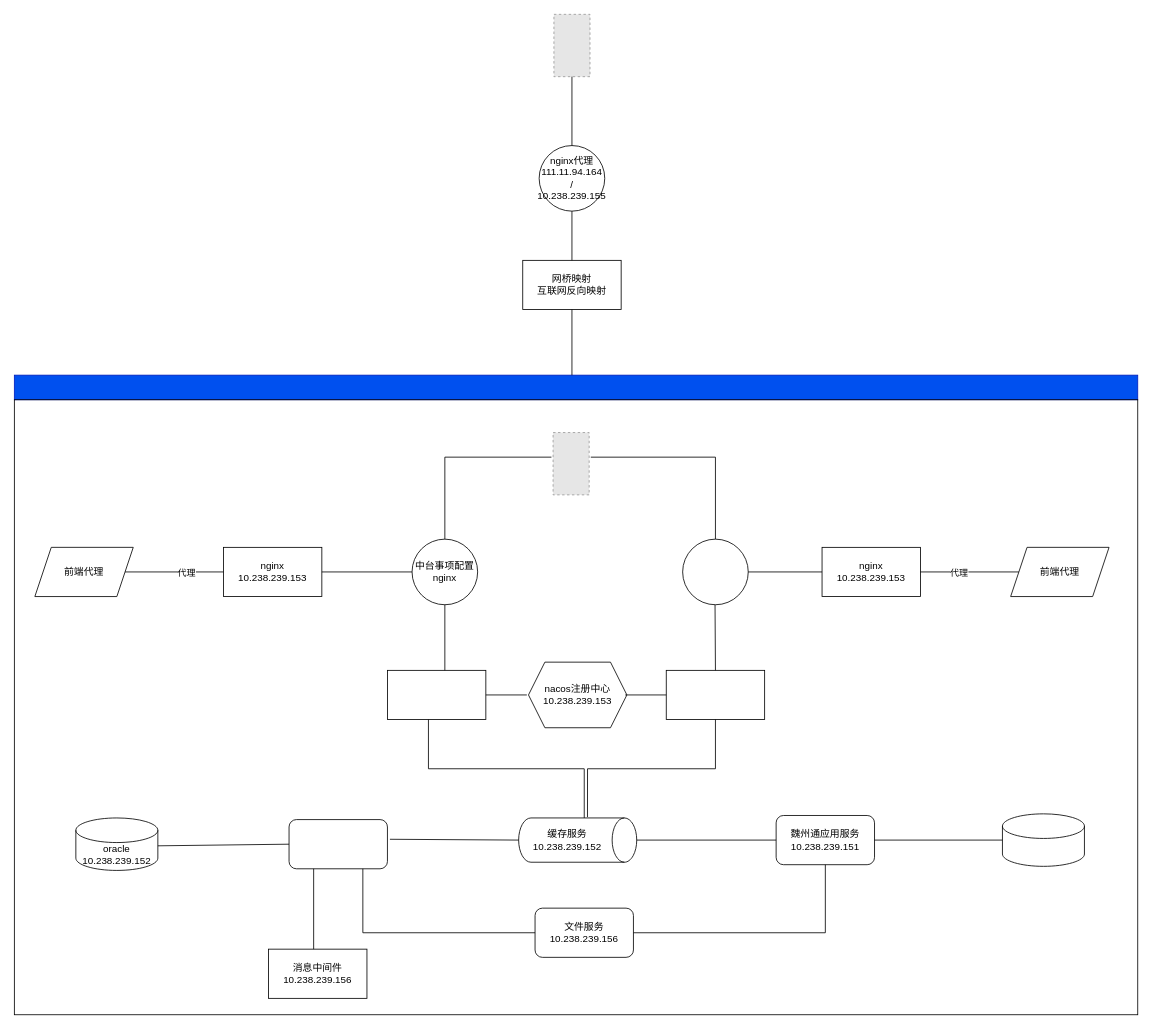
This 1152x1029 diagram has some shape labels left out. Grey dashed boxes stand in for pictures. Here are the shapes that lost their labels. From the top down, the centre of each, then its label:
pixel 576 387: 政务网
pixel 715 571: 魏州通nginx
pixel 436 695: gateway 10.238.239.154
pixel 715 695: gateway 10.238.239.151
pixel 337 844: 中台事项应用服务 10.238.239.154
pixel 1043 839: mysql 10.238.239.152
